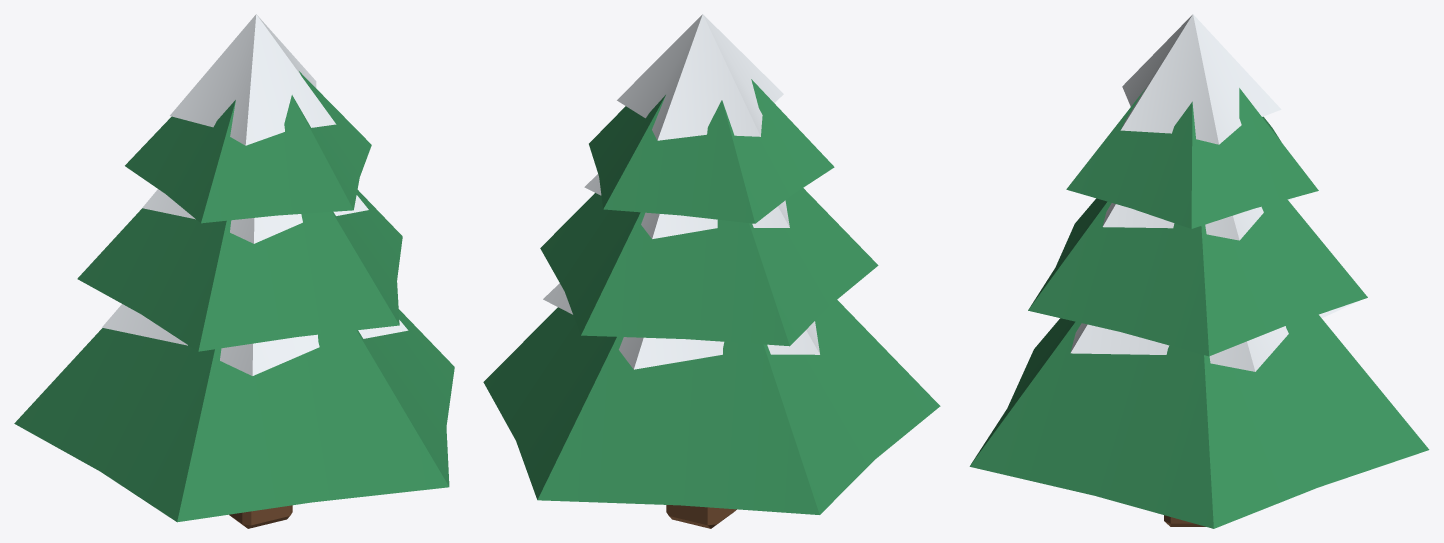
The model's file is SnowPine.fbx.
The picture shows the model from 3 angles, left to right: view 1: azimuth 30°, elevation 25°; view 2: azimuth 150°, elevation 25°; view 3: azimuth 270°, elevation 25°; orthographic projection.
Visible parts, largest first — view 1: SnowPine_Needle, SnowPine_Snow, SnowPine_Bark; view 2: SnowPine_Needle, SnowPine_Snow, SnowPine_Bark; view 3: SnowPine_Needle, SnowPine_Snow.
Boxes of the visible parts, <box> form: SnowPine_Needle: <box>14,71,454,522</box>; SnowPine_Snow: <box>102,14,408,375</box>; SnowPine_Bark: <box>229,505,292,528</box>; SnowPine_Needle: <box>483,79,940,514</box>; SnowPine_Snow: <box>543,14,819,369</box>; SnowPine_Bark: <box>666,505,736,528</box>; SnowPine_Needle: <box>969,88,1429,528</box>; SnowPine_Snow: <box>1070,14,1353,371</box>.
Size of the model in its own units: 540 by 666 by 552.
